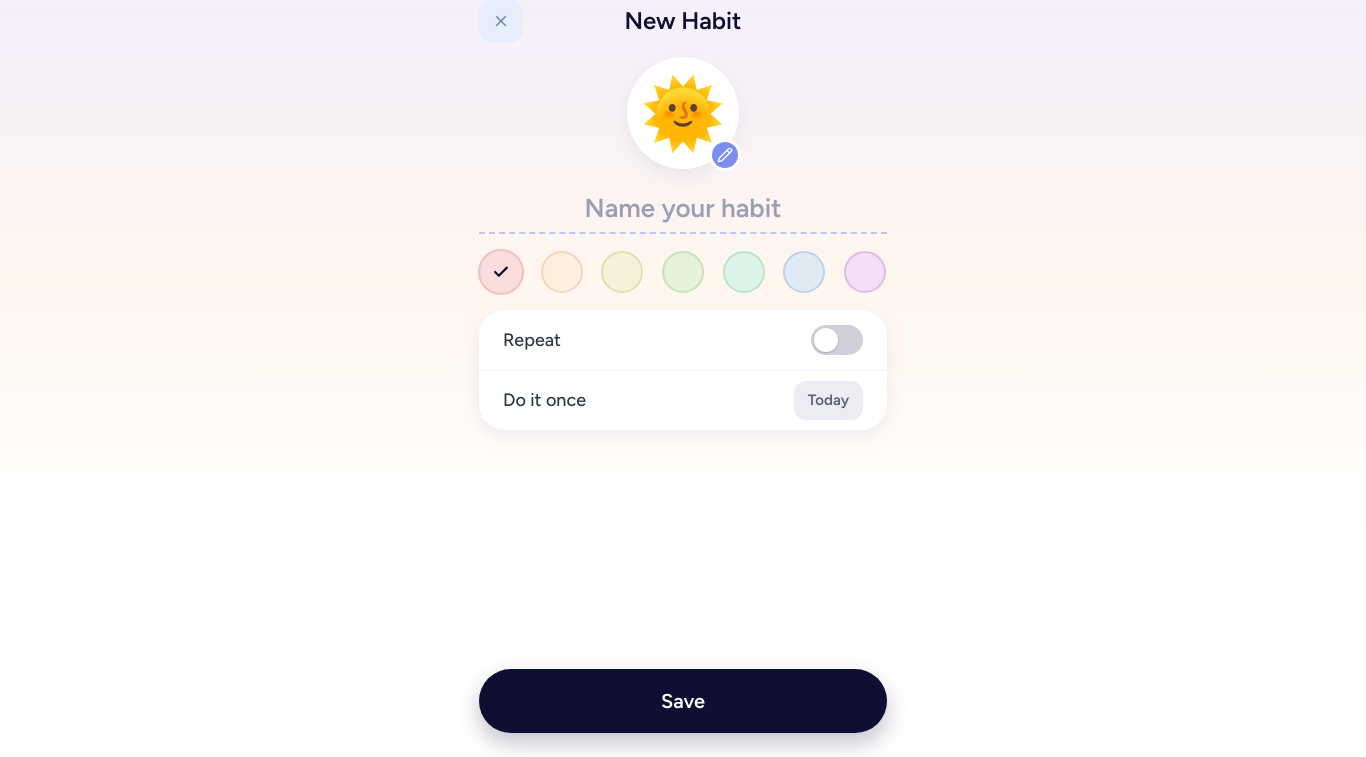
Scenario: NewHabitForm › US01-AC6 shows the end-date error below the schedule and clears it on change
This screenshot has width=1366, height=757.
Type "Walk" into the field labelled "Habit name". click: (683, 210)
box: top-left (479, 185), bottom-right (887, 234)
Click the switch named "Repeat". click: (837, 340)
box: top-left (811, 325), bottom-right (863, 355)
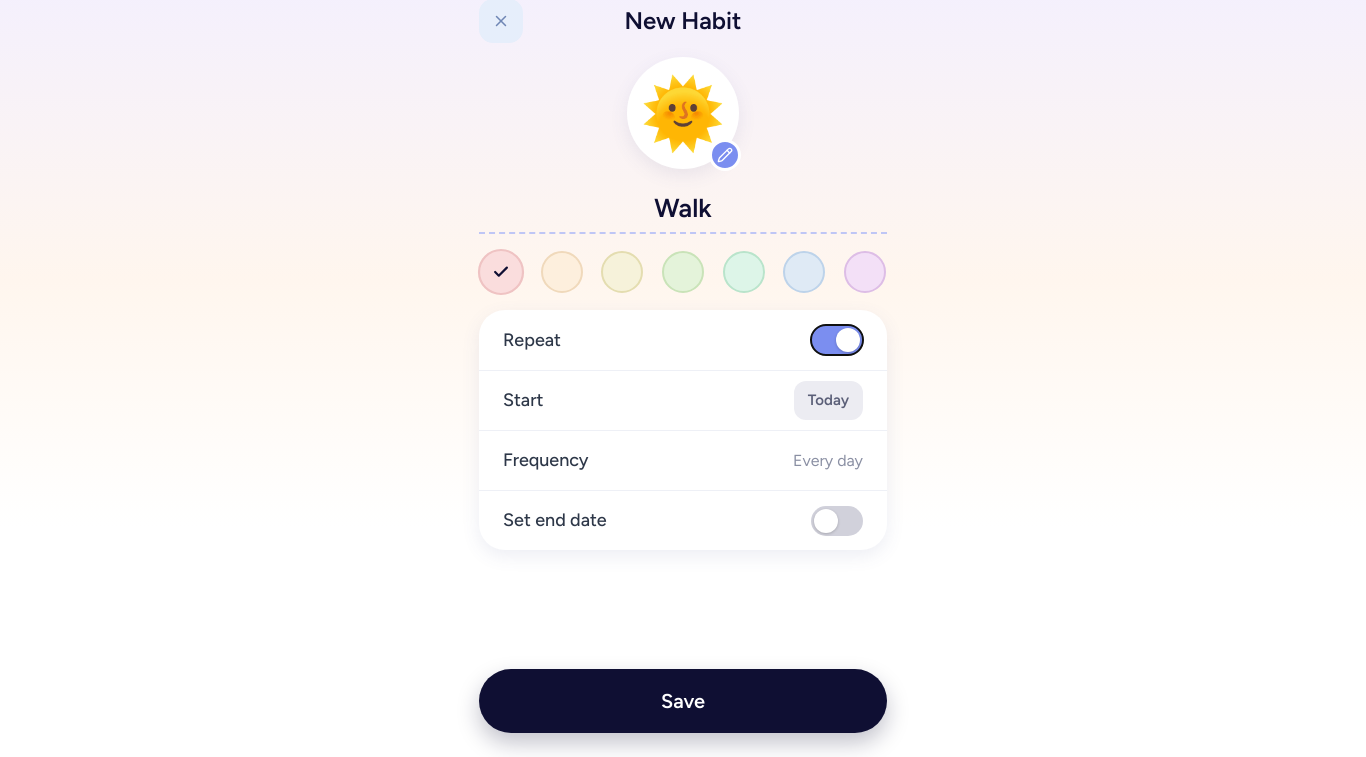
Type "2026-10-20" into the date field named "Start date". click: (828, 400)
box: top-left (794, 378), bottom-right (863, 422)
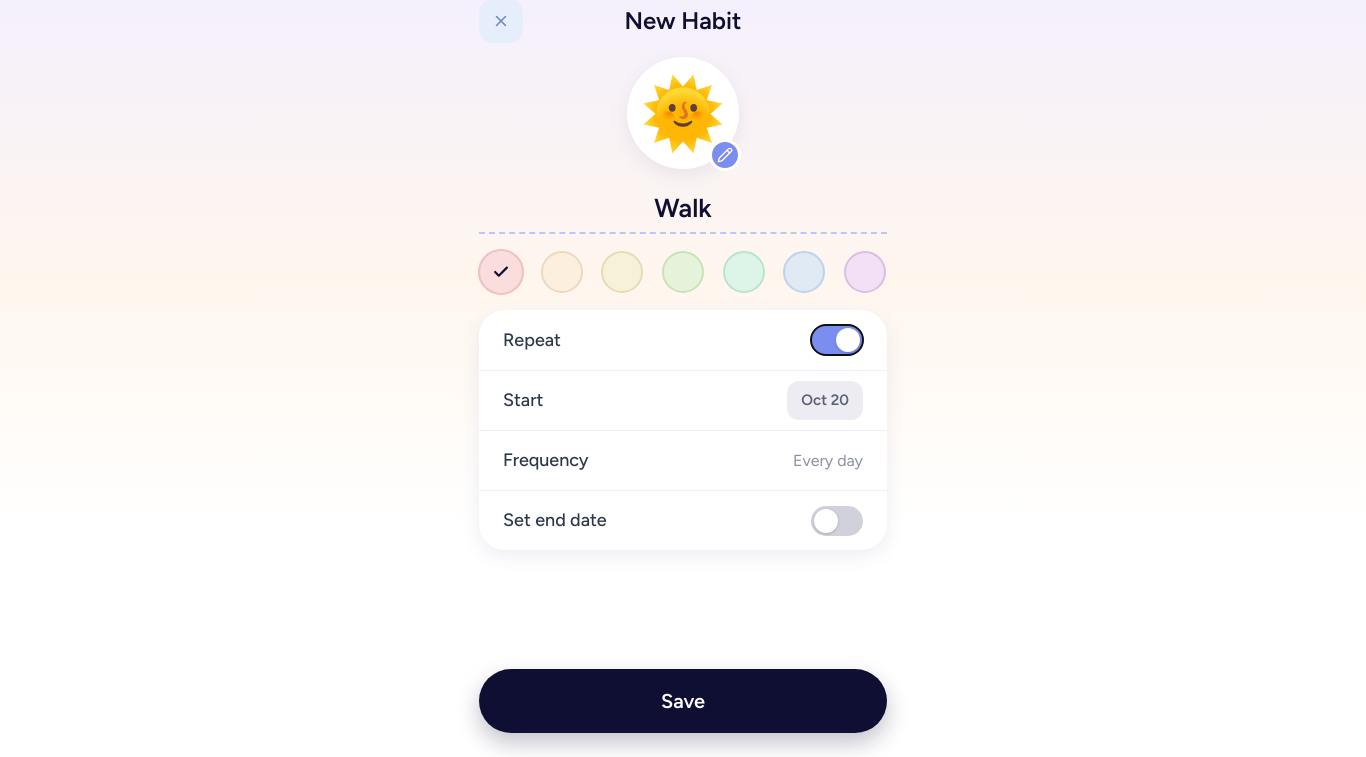
Click the switch named "Set end date". click: (837, 520)
box: top-left (811, 506), bottom-right (863, 536)
(page scrolled)
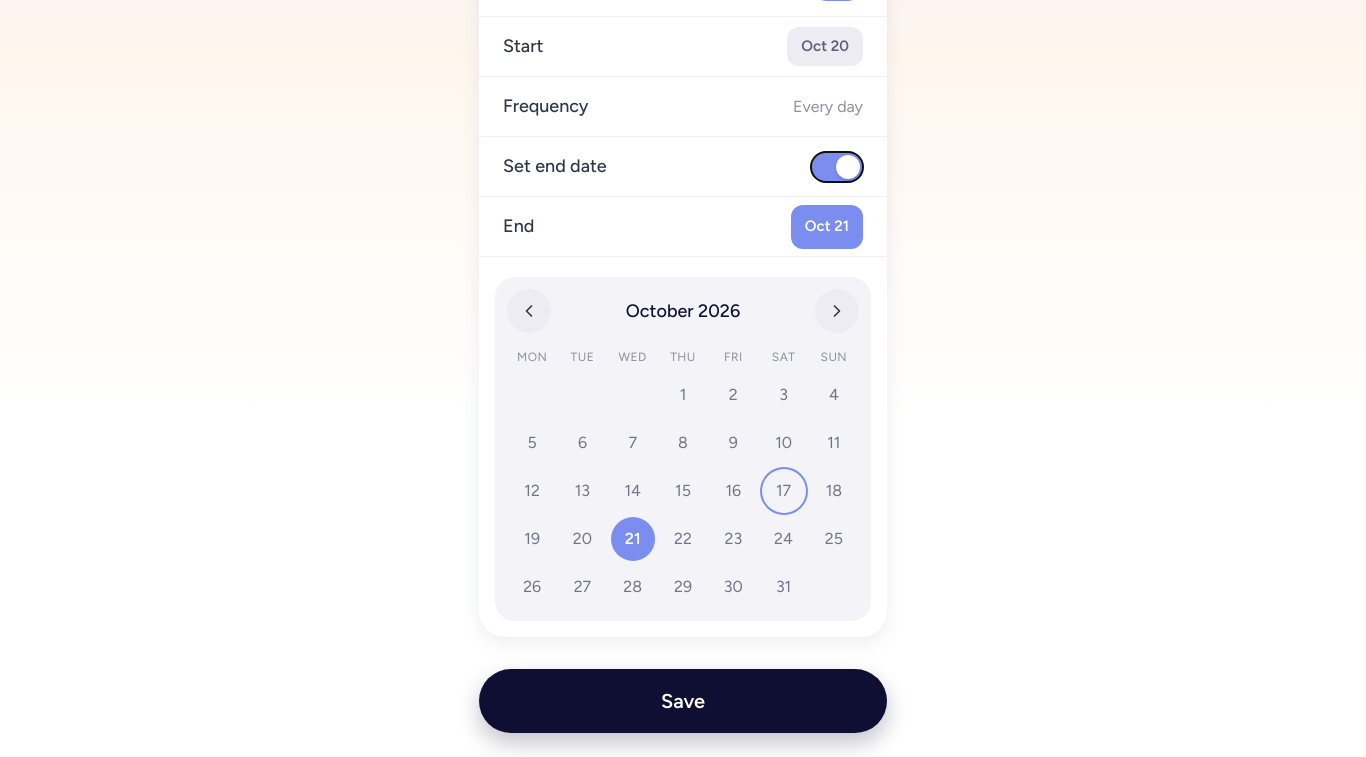
Click the button named "October 19, 2026". click: (532, 539)
box: top-left (510, 517), bottom-right (554, 561)
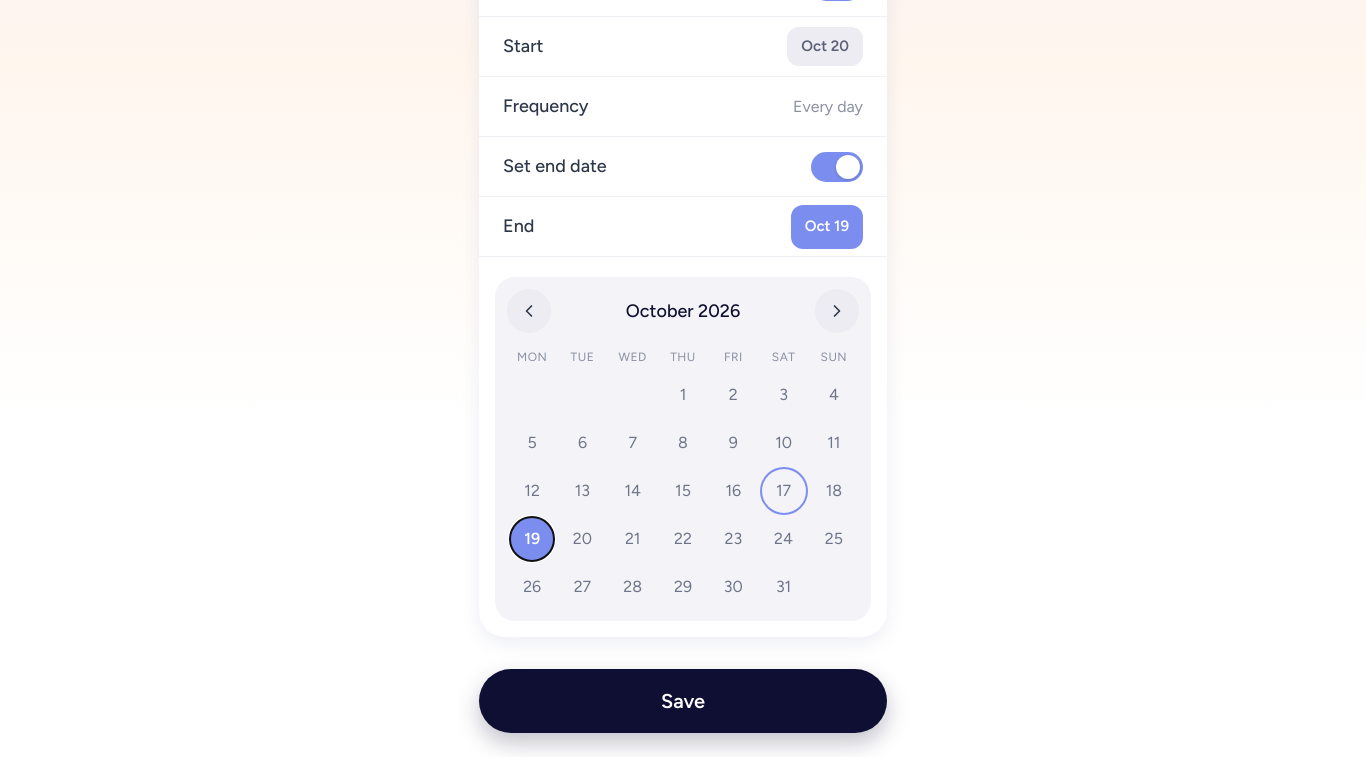
Click the button "Save". click: (683, 701)
box: top-left (479, 669), bottom-right (887, 733)
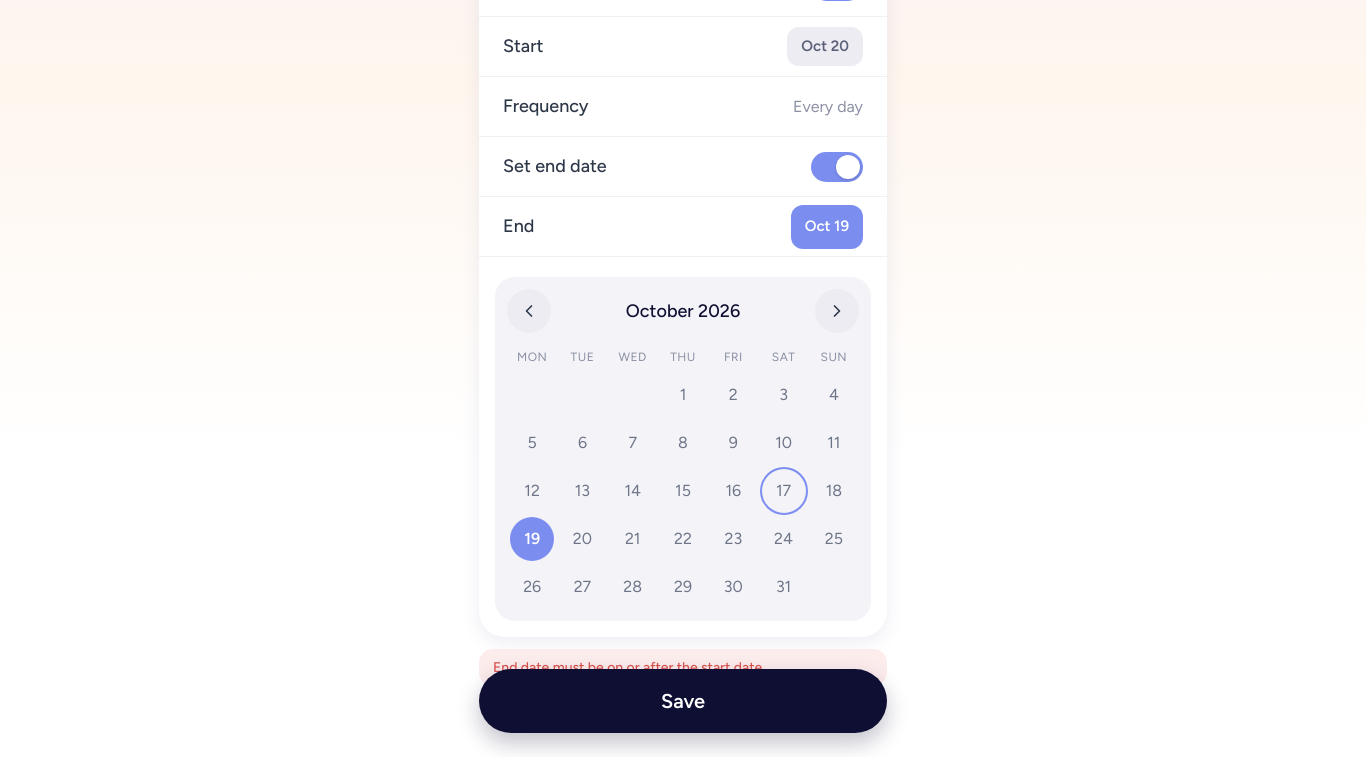
Now the text "End date must be on or after the start date." is shown, box top-left (479, 649), bottom-right (887, 686)
Click the button named "October 20, 2026". click: (582, 539)
box: top-left (560, 517), bottom-right (604, 561)
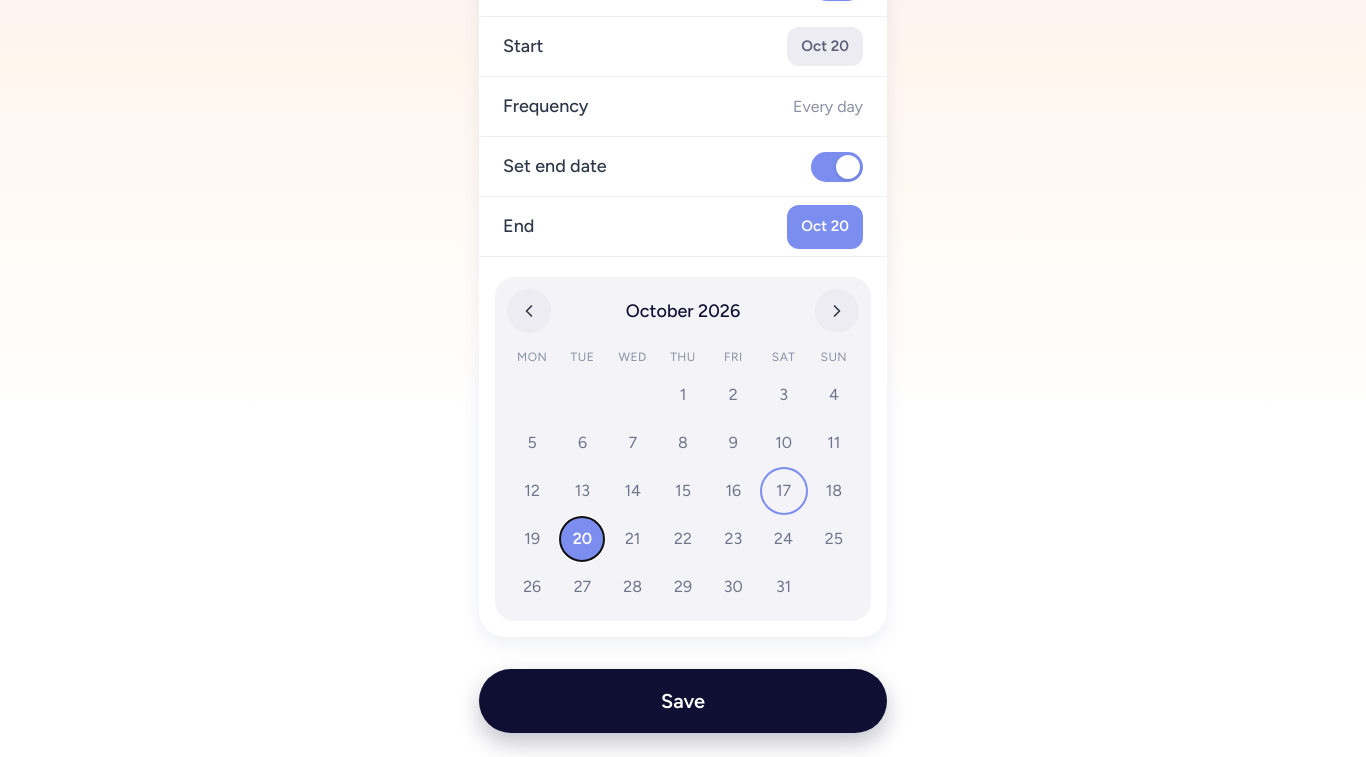
Now the text "End date must be on or after the start date." is gone
